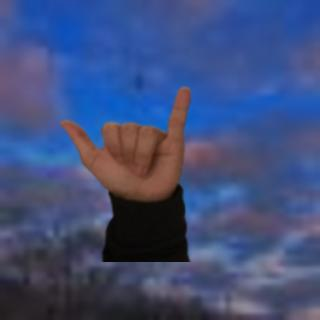HAVE: (56, 80, 197, 204)
